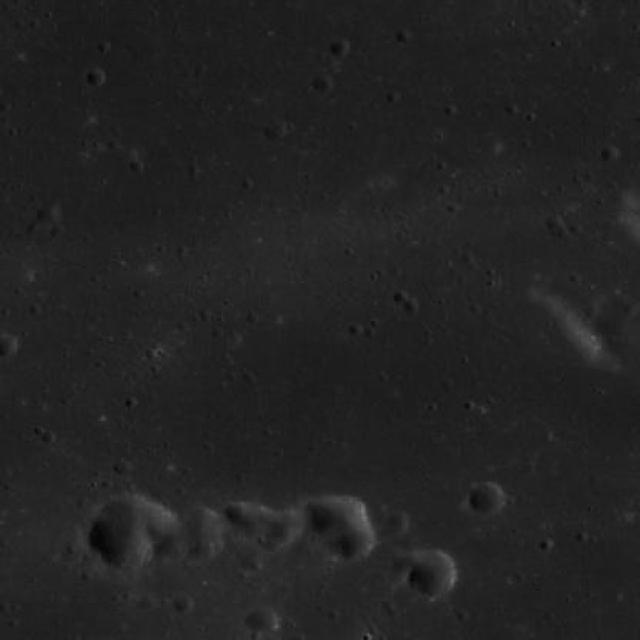crater: (89, 496, 171, 570), (163, 504, 224, 560), (306, 493, 366, 547), (409, 552, 460, 598), (332, 518, 376, 560), (142, 506, 181, 542), (268, 511, 308, 546), (470, 482, 504, 516), (130, 34, 164, 64), (156, 536, 187, 566), (248, 608, 278, 636), (250, 506, 279, 532), (226, 502, 254, 526), (386, 512, 412, 537), (0, 331, 18, 357), (393, 554, 415, 574), (312, 74, 334, 94), (242, 554, 264, 574), (136, 593, 158, 613), (40, 206, 62, 226), (265, 123, 287, 142), (331, 38, 351, 57), (87, 70, 107, 88), (174, 596, 192, 613), (600, 147, 618, 164), (620, 298, 638, 314), (115, 461, 134, 476)
